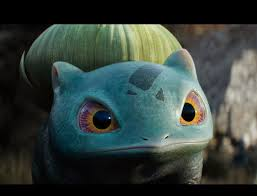bulbasaur: (13, 20, 226, 186)
